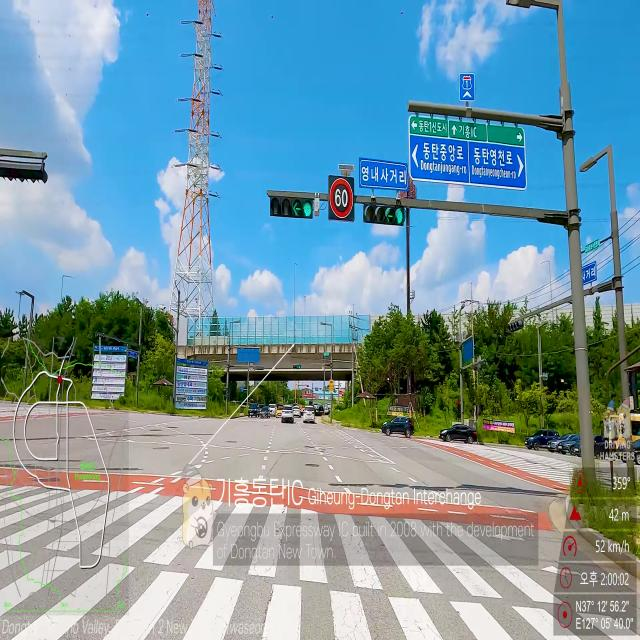Green Light: (394, 206, 404, 226), (302, 199, 312, 218)
